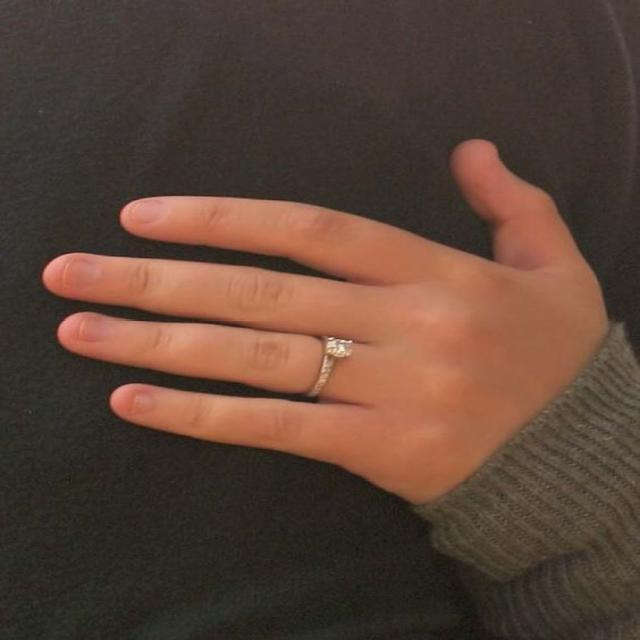Fingernail: (63, 259, 99, 291), (126, 201, 164, 229), (76, 315, 108, 343), (131, 390, 154, 415)
